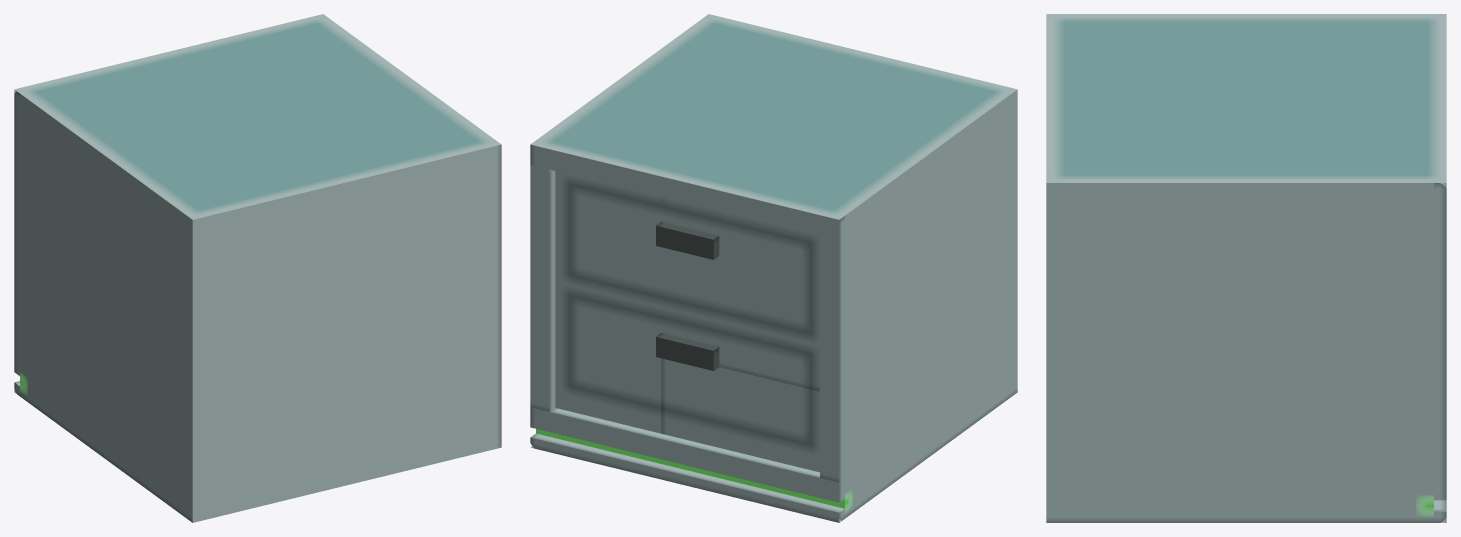
File: kuchnia_sz_01.dae
3 renders of one model, left to right at view 1: azimuth 30°, elevation 25°; view 2: azimuth 150°, elevation 25°; view 3: azimuth 270°, elevation 25°, orthographic. The views are drawn at different scales.
Visible parts, largest first — view 1: Content; view 2: Content; view 3: Content.
Part boxes in pixels (<box>): Content: <box>14,14,501,522</box>; Content: <box>530,14,1017,522</box>; Content: <box>1046,14,1446,522</box>.
Bounding box in the file's own units: 32 × 30 × 32.
Materials: 1 (1 with a texture image).
